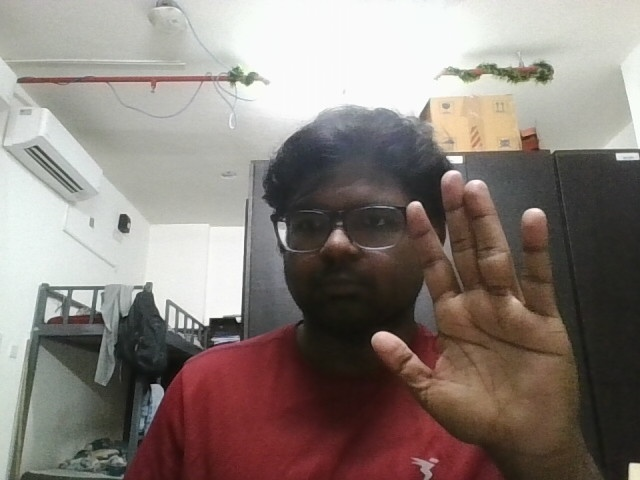Hello: (359, 165, 592, 465)
